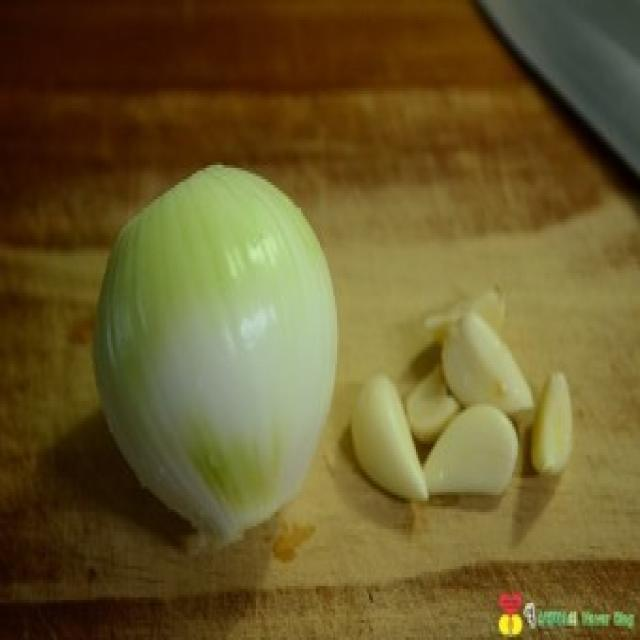onion: (80, 146, 364, 567)
